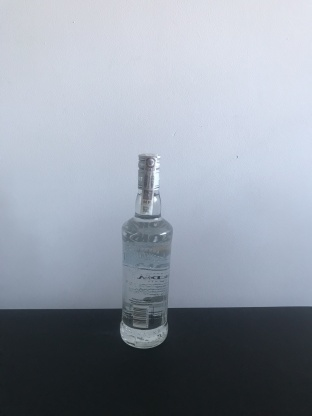nakretka: (134, 149, 163, 192)
